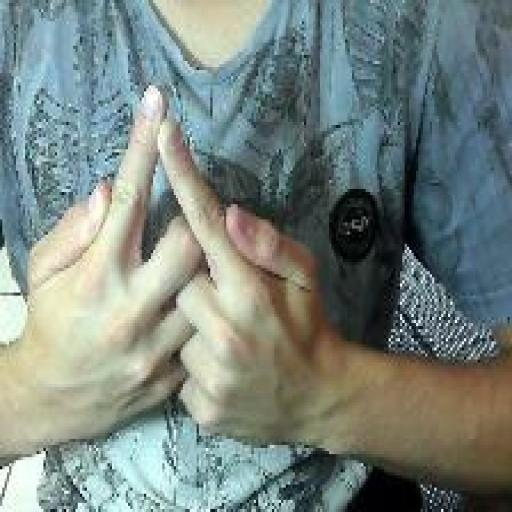Uma -horse-: (23, 76, 327, 454)
